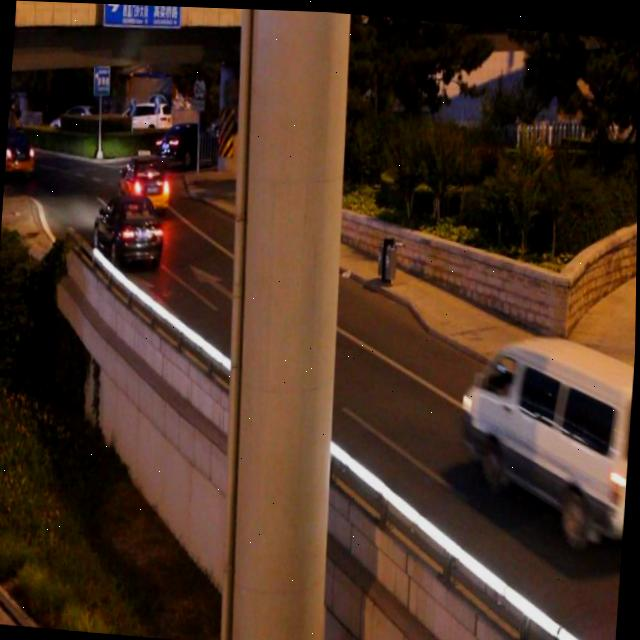car: (92, 189, 166, 268), (117, 149, 173, 216)
truck: (455, 322, 636, 541)
